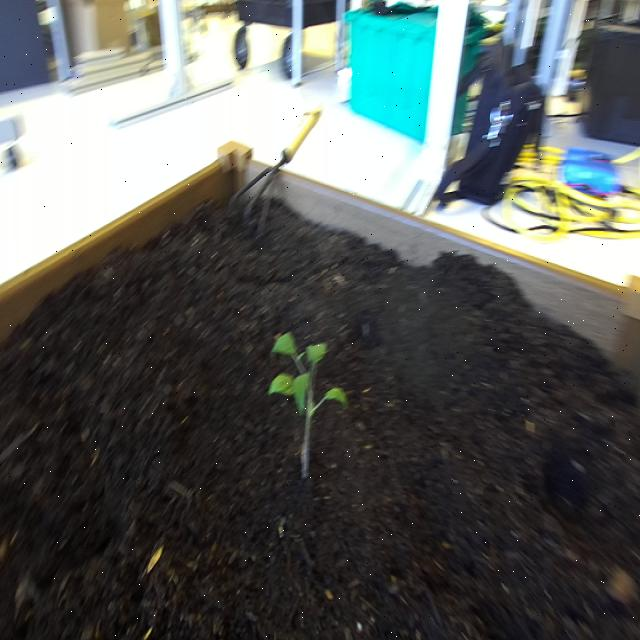Healthy: (265, 324, 352, 489)
